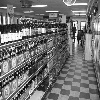beer: (9, 50, 19, 68)
